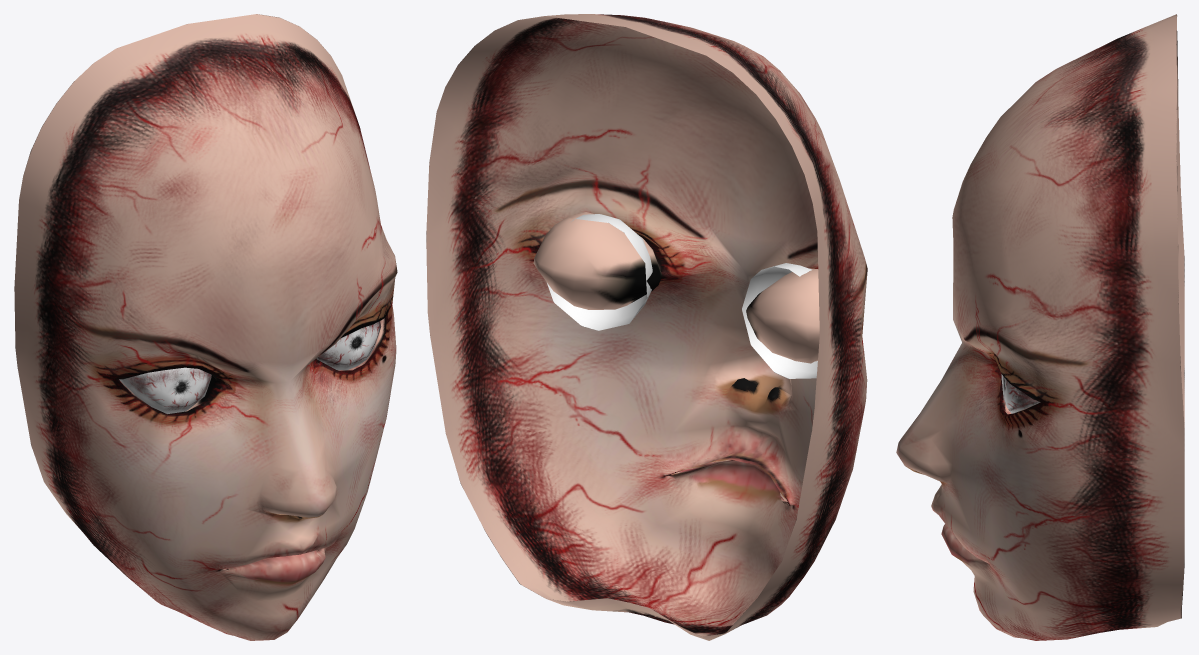
File: 9F_angry.FBX
3 views of the same model, side by side, from view 1: azimuth 30°, elevation 25°; view 2: azimuth 150°, elevation 25°; view 3: azimuth 270°, elevation 25° (orthographic). The views are drawn at different scales.
Parts seen in each view (by area): view 1: Angry; view 2: Angry; view 3: Angry.
Boxes of the visible parts, bbox=[...] form: Angry: bbox=[14, 14, 397, 640]; Angry: bbox=[426, 14, 867, 640]; Angry: bbox=[896, 14, 1184, 640].
Bounding box in the file's own units: 109 × 172 × 76.2.
